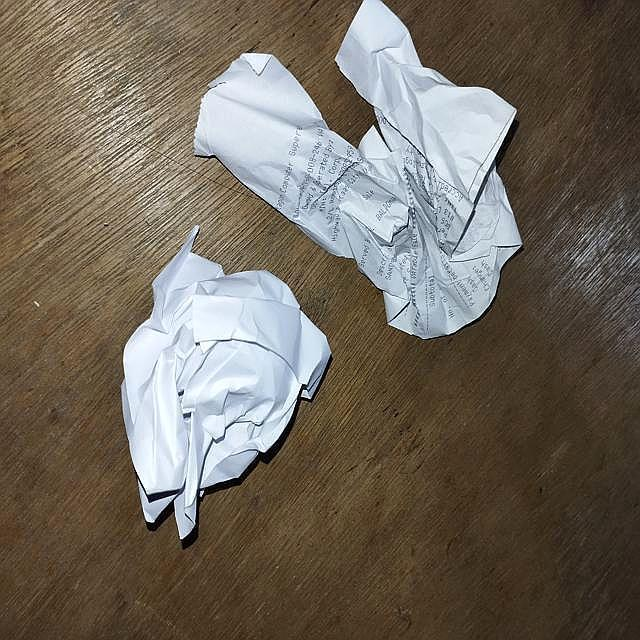Biodegradable: (191, 1, 520, 336), (121, 228, 332, 546)
